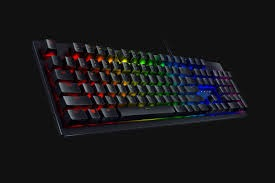keyboard: (9, 21, 264, 158)
